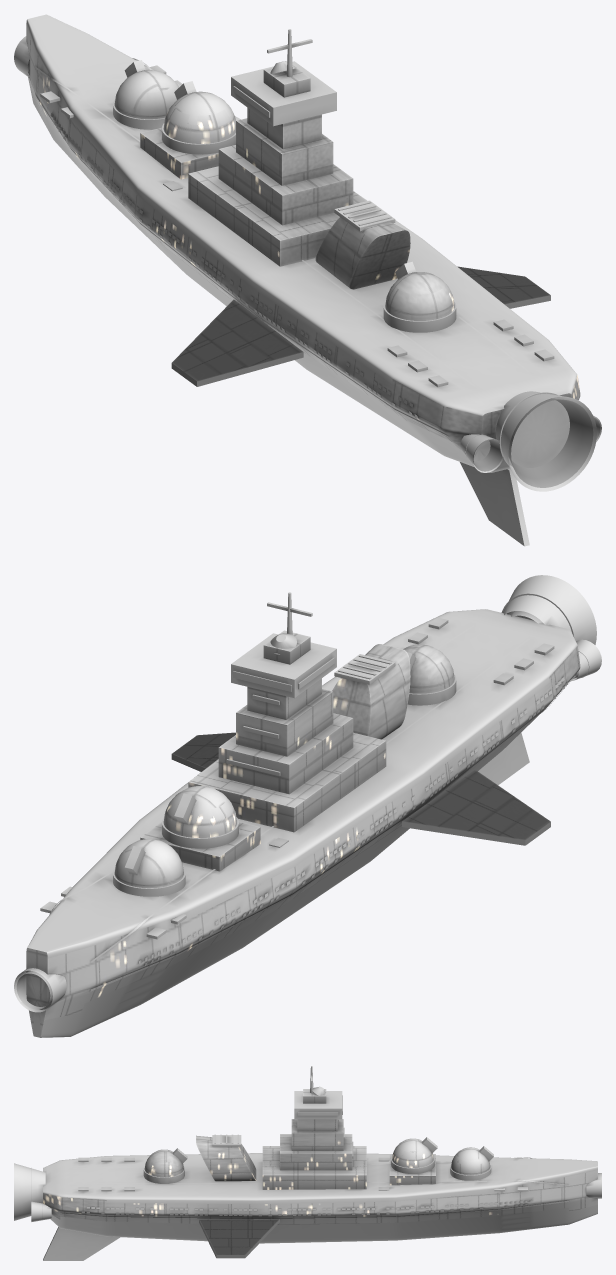
Rendered from ship-amatsu.glb.
3 renders of one model, top to bottom at view 1: azimuth 30°, elevation 25°; view 2: azimuth 150°, elevation 25°; view 3: azimuth 270°, elevation 25°, orthographic. The views are drawn at different scales.
Parts seen in each view (by area): view 1: Hull; view 2: Hull; view 3: Hull.
Part boxes in pixels (x1=…): Hull: x1=14, y1=14, x2=601, y2=546; Hull: x1=14, y1=575, x2=601, y2=1037; Hull: x1=14, y1=1066, x2=601, y2=1260.
Size of the model in its own units: 0.4 by 0.37 by 1.02.
Materials: 8 (1 with a texture image).
